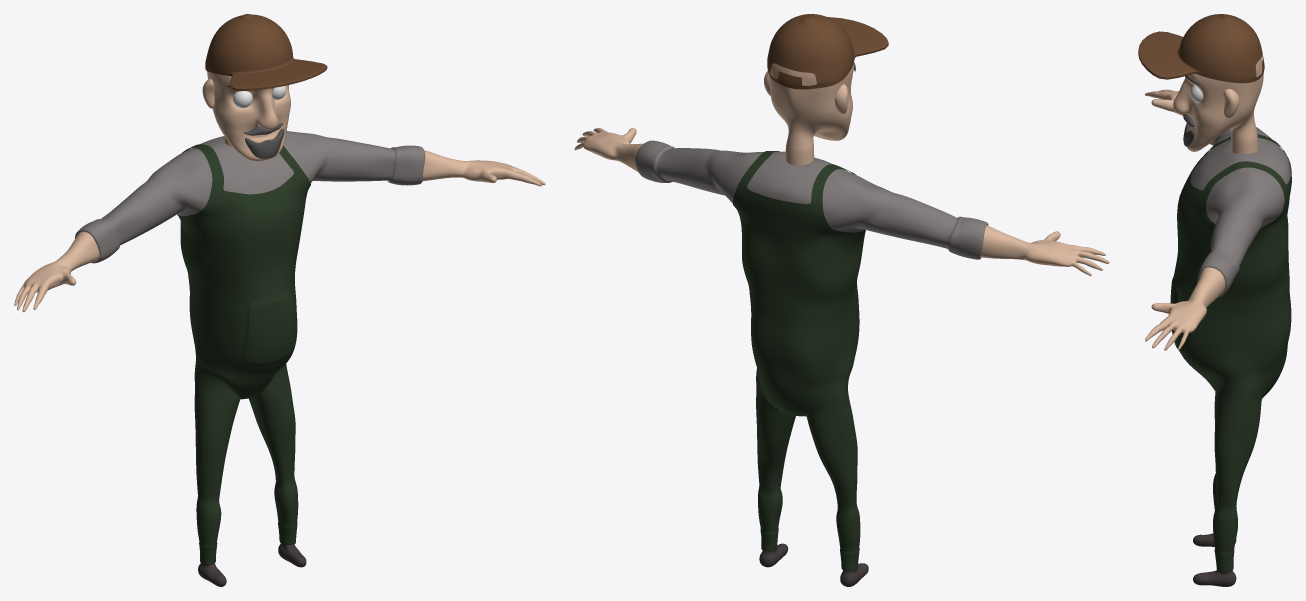
Rendered from Faxineiro.fbx.
3 renders of one model, left to right at view 1: azimuth 30°, elevation 25°; view 2: azimuth 150°, elevation 25°; view 3: azimuth 270°, elevation 25°, orthographic.
Parts seen in each view (by area): view 1: polySurface20; view 2: polySurface20; view 3: polySurface20.
Boxes of the visible parts, x1,y1,x2,y2 form: polySurface20: (14,14,545,586); polySurface20: (574,14,1109,586); polySurface20: (1138,14,1291,586).
Size of the model in its own units: 44.88 by 45.38 by 11.49.
